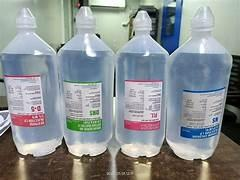Iv_Bottle: (166, 6, 231, 159), (2, 8, 62, 155), (59, 6, 113, 155), (116, 10, 168, 156)
